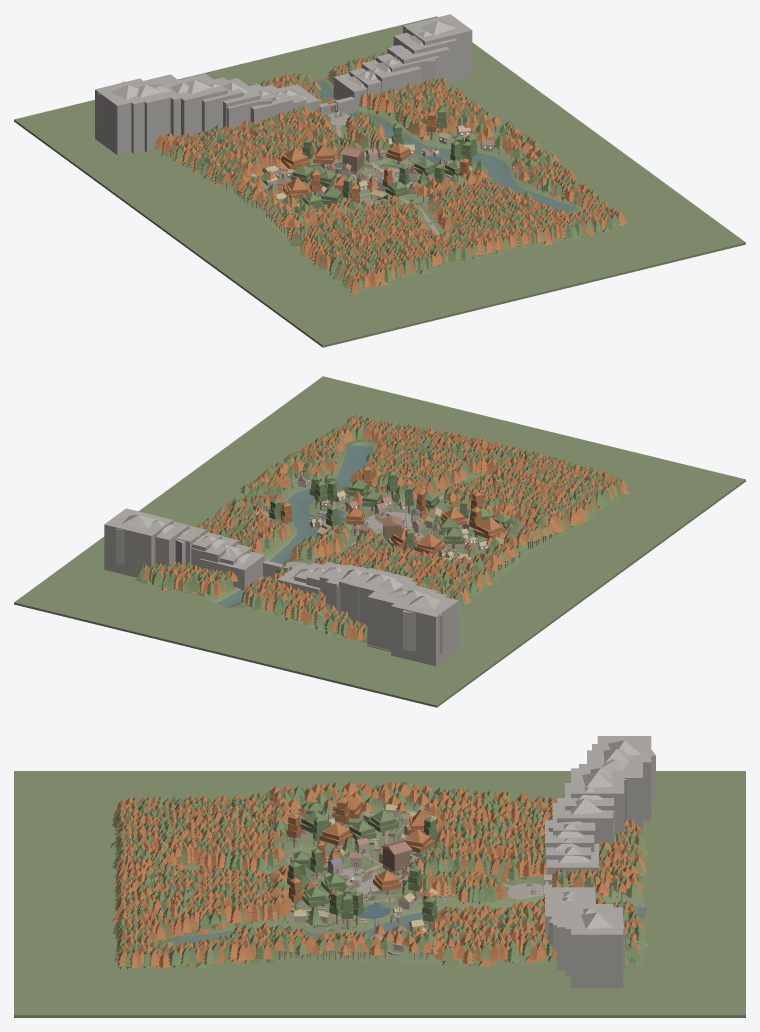
3 renders of one model, top to bottom at view 1: azimuth 30°, elevation 25°; view 2: azimuth 150°, elevation 25°; view 3: azimuth 270°, elevation 25°, orthographic. The views are drawn at different scales.
Visible parts, largest first — view 1: emb_ground_far, emb_ground_valley, veg_emb_wood_00_crownA, veg_emb_wood_00_crownG, emb_bluff_W10_mass0, water_emb_river, emb_bluff_E6_mass0, emb_bluff_W8_mass0, veg_emb_wood_12_crownA, veg_emb_wood_13_crownA, emb_bluff_W6_mass0, veg_emb_wood_14_crownA (+45 smaller); view 2: emb_ground_far, emb_ground_valley, emb_bluff_W10_mass0, emb_bluff_E6_mass0, water_emb_river, veg_emb_wood_24_crownG, emb_bluff_W8_mass0, veg_emb_wood_13_crownA, emb_bluff_W6_mass0, veg_emb_wood_16_crownA, veg_emb_wood_12_crownA, veg_emb_wood_24_crownA (+38 smaller); view 3: emb_ground_far, emb_ground_valley, emb_bluff_E6_mass0, veg_emb_wood_13_crownA, veg_emb_wood_16_crownA, veg_emb_wood_14_crownA, veg_emb_wood_12_crownA, veg_emb_wood_10_crownA, veg_emb_wood_20_crownA, veg_emb_wood_18_crownA, veg_emb_wood_00_crownA, emb_bluff_W8_mass0 (+53 smaller).
Boxes of the visible parts, bbox=[...] form: emb_ground_far: bbox=[14, 16, 745, 347]; emb_ground_valley: bbox=[157, 77, 628, 294]; veg_emb_wood_00_crownA: bbox=[346, 211, 626, 294]; veg_emb_wood_00_crownG: bbox=[357, 213, 625, 289]; emb_bluff_W10_mass0: bbox=[95, 78, 161, 155]; water_emb_river: bbox=[312, 80, 577, 213]; emb_bluff_E6_mass0: bbox=[403, 14, 472, 78]; emb_bluff_W8_mass0: bbox=[124, 74, 186, 152]; veg_emb_wood_12_crownA: bbox=[280, 154, 559, 229]; veg_emb_wood_13_crownA: bbox=[228, 125, 548, 225]; emb_bluff_W6_mass0: bbox=[166, 73, 227, 135]; veg_emb_wood_14_crownA: bbox=[214, 109, 500, 186]; emb_ground_far: bbox=[14, 376, 745, 707]; emb_ground_valley: bbox=[131, 440, 628, 650]; emb_bluff_W10_mass0: bbox=[391, 590, 458, 666]; emb_bluff_E6_mass0: bbox=[104, 508, 173, 577]; water_emb_river: bbox=[216, 445, 373, 607]; veg_emb_wood_24_crownG: bbox=[136, 567, 355, 639]; emb_bluff_W8_mass0: bbox=[367, 583, 438, 651]; veg_emb_wood_13_crownA: bbox=[246, 456, 554, 564]; emb_bluff_W6_mass0: bbox=[348, 568, 414, 626]; veg_emb_wood_16_crownA: bbox=[206, 515, 470, 588]; veg_emb_wood_12_crownA: bbox=[285, 451, 559, 531]; veg_emb_wood_24_crownA: bbox=[142, 568, 363, 640]; emb_ground_far: bbox=[14, 771, 745, 1017]; emb_ground_valley: bbox=[115, 801, 644, 970]; emb_bluff_E6_mass0: bbox=[571, 907, 623, 988]; veg_emb_wood_13_crownA: bbox=[285, 781, 413, 956]; veg_emb_wood_16_crownA: bbox=[457, 791, 484, 964]; veg_emb_wood_14_crownA: bbox=[409, 784, 450, 960]; veg_emb_wood_12_crownA: bbox=[267, 785, 294, 950]; veg_emb_wood_10_crownA: bbox=[242, 792, 264, 960]; veg_emb_wood_20_crownA: bbox=[522, 796, 549, 963]; veg_emb_wood_18_crownA: bbox=[489, 791, 512, 964]; veg_emb_wood_00_crownA: bbox=[111, 797, 134, 966]; emb_bluff_W8_mass0: bbox=[587, 750, 642, 832].
Size of the model in its own units: 256 by 34.22 by 324.
